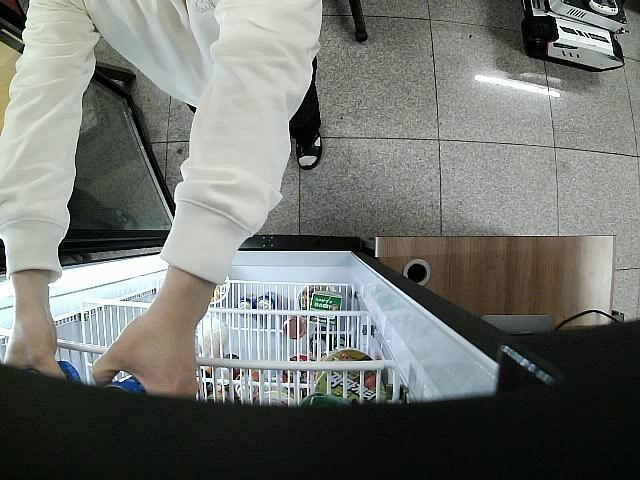15_letsbe: (100, 375, 146, 401), (40, 362, 84, 388)
